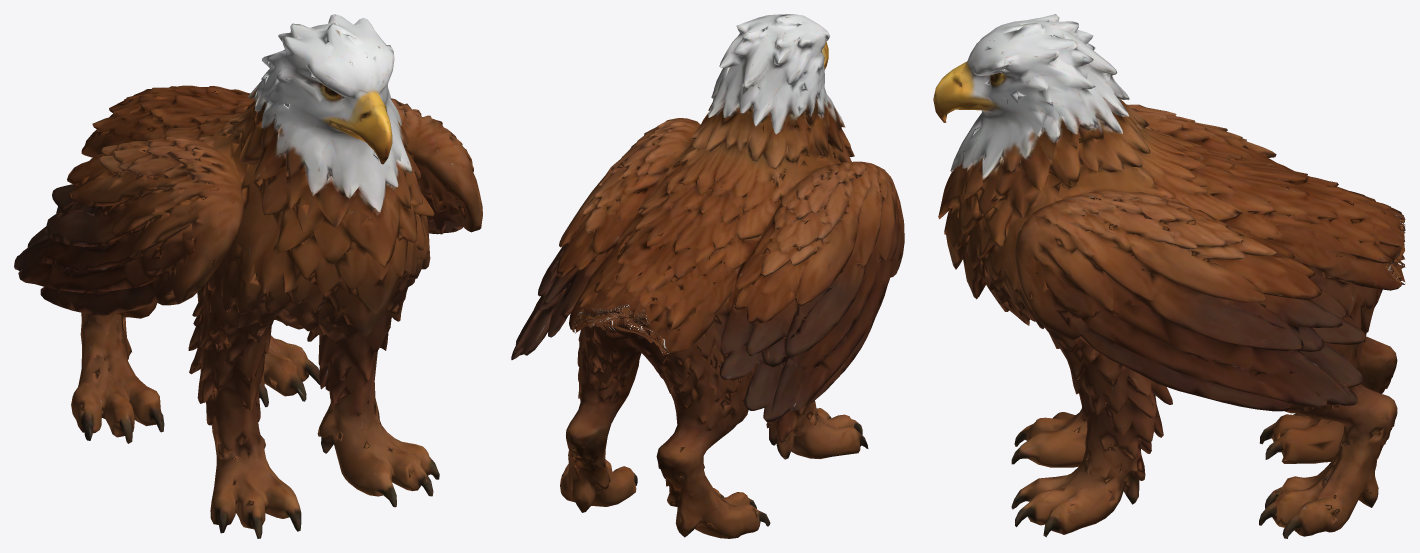
File: detail_3.glb
The picture shows the model from 3 angles, left to right: view 1: azimuth 30°, elevation 25°; view 2: azimuth 150°, elevation 25°; view 3: azimuth 270°, elevation 25°; orthographic projection. The views are drawn at different scales.
Parts seen in each view (by area): view 1: Mesh_0; view 2: Mesh_0; view 3: Mesh_0.
Part boxes in pixels (x1,y1,x2,y2): Mesh_0: (14,14,482,538); Mesh_0: (511,14,904,538); Mesh_0: (933,14,1405,538).
Size of the model in its own units: 0.6745 by 0.8873 by 0.8199.
Materials: 1 (1 with a texture image).
